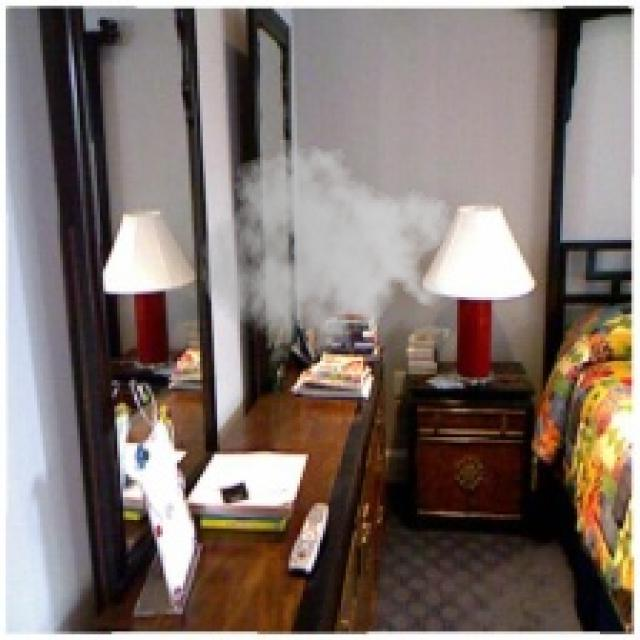smoke: (200, 132, 454, 372)
